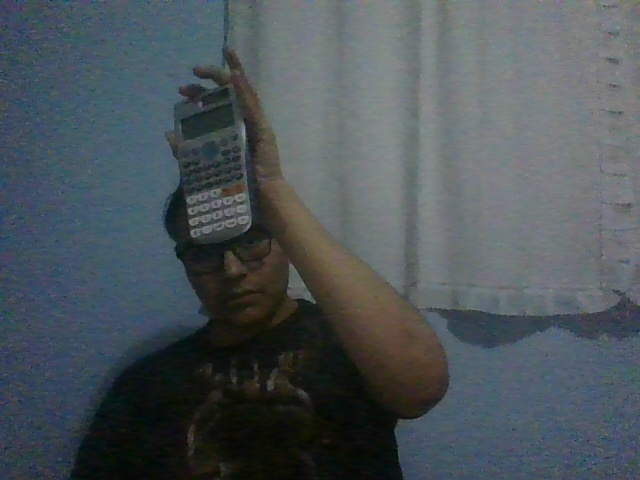calculadora: (172, 83, 256, 246)
